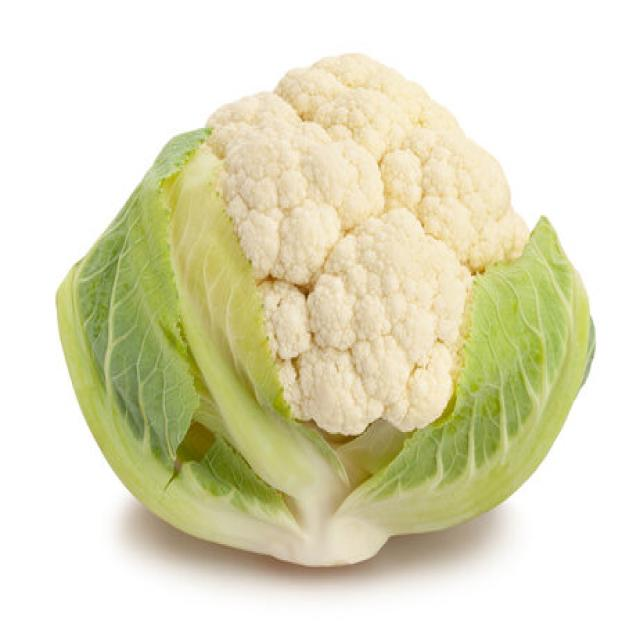Cauliflower: (76, 51, 584, 577)
